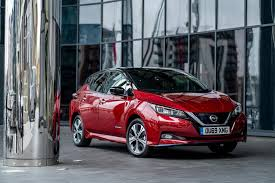Nissan: (76, 69, 241, 152)
